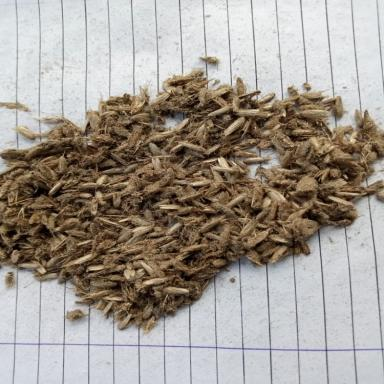pbw: (336, 186, 364, 200), (62, 253, 94, 265), (162, 164, 178, 188), (316, 118, 333, 140), (165, 270, 191, 284), (162, 296, 180, 316), (231, 136, 256, 150), (300, 108, 329, 120), (223, 117, 242, 135), (247, 230, 268, 246), (263, 114, 284, 130), (298, 216, 326, 228), (48, 219, 70, 234), (0, 167, 19, 184), (72, 149, 86, 172), (63, 208, 79, 228), (264, 188, 284, 204), (142, 312, 158, 332), (268, 246, 288, 262), (295, 159, 319, 172), (325, 194, 351, 206), (296, 96, 322, 108), (332, 206, 358, 218), (12, 125, 34, 139), (1, 102, 29, 113), (314, 198, 336, 212), (29, 256, 46, 274), (300, 173, 317, 191), (280, 148, 297, 166), (201, 216, 220, 232), (173, 125, 193, 140), (296, 234, 311, 254), (288, 172, 303, 192), (364, 179, 384, 194), (312, 142, 332, 157), (271, 164, 296, 176), (295, 139, 312, 156), (274, 132, 290, 150), (185, 262, 209, 274), (158, 238, 180, 251), (89, 131, 115, 142), (240, 154, 266, 165), (249, 188, 262, 210), (283, 190, 298, 209), (352, 108, 366, 128), (110, 125, 130, 139), (94, 238, 114, 252), (162, 286, 190, 296), (164, 154, 192, 164), (122, 233, 142, 247), (229, 149, 257, 159), (266, 174, 286, 188), (254, 136, 277, 148), (98, 216, 121, 228), (81, 226, 104, 238), (196, 270, 221, 281), (147, 129, 172, 140), (62, 123, 79, 139), (119, 310, 136, 326), (228, 191, 245, 207), (86, 147, 103, 163), (199, 232, 214, 250), (150, 110, 169, 124), (312, 166, 331, 180), (149, 93, 168, 107), (20, 226, 42, 238), (290, 117, 312, 129), (158, 200, 182, 211), (115, 185, 139, 196), (270, 120, 292, 132), (84, 288, 110, 298), (321, 176, 347, 186), (210, 94, 230, 107), (12, 235, 32, 248), (307, 211, 333, 221), (358, 142, 374, 158), (44, 253, 60, 269), (33, 114, 65, 122), (127, 124, 142, 141), (332, 163, 355, 174), (149, 237, 172, 248), (260, 220, 283, 231), (287, 128, 315, 137), (240, 89, 261, 101), (12, 169, 33, 181), (86, 110, 100, 128), (178, 140, 203, 150), (137, 284, 162, 294), (54, 140, 85, 148), (207, 106, 231, 116), (244, 252, 264, 264), (332, 152, 356, 162), (135, 84, 150, 100), (114, 171, 138, 181), (209, 84, 229, 96), (182, 68, 206, 78), (107, 96, 127, 108), (47, 124, 62, 140), (204, 189, 219, 205), (99, 255, 115, 270), (217, 232, 231, 249), (111, 307, 125, 324), (288, 240, 302, 257), (187, 78, 204, 92), (40, 161, 54, 178), (357, 158, 374, 172), (145, 195, 158, 213), (6, 185, 19, 203), (178, 252, 204, 261), (17, 184, 30, 202), (128, 97, 141, 115), (15, 214, 28, 232), (203, 142, 221, 155), (128, 225, 149, 236), (266, 202, 277, 223), (129, 215, 150, 226), (56, 189, 75, 201), (106, 142, 125, 154), (204, 250, 229, 259), (71, 274, 85, 290), (184, 216, 198, 232), (110, 150, 126, 164), (298, 198, 314, 212), (139, 260, 155, 274), (130, 196, 144, 212), (25, 145, 41, 159), (257, 92, 273, 106), (48, 237, 62, 253), (136, 163, 152, 177), (190, 281, 203, 298), (100, 119, 113, 136), (196, 89, 209, 106), (284, 208, 304, 219), (275, 106, 297, 116), (276, 95, 298, 105), (0, 148, 22, 158), (92, 159, 114, 169), (333, 96, 344, 116), (120, 246, 140, 257), (258, 169, 280, 179), (191, 204, 213, 214), (161, 140, 173, 158), (133, 306, 142, 330), (236, 109, 260, 118), (81, 217, 99, 229), (168, 75, 192, 84), (260, 244, 278, 256), (181, 190, 199, 202), (2, 271, 16, 286), (194, 123, 208, 138), (213, 204, 234, 214), (90, 250, 111, 260), (169, 256, 184, 270), (22, 208, 48, 216), (126, 286, 139, 302), (123, 264, 136, 280), (140, 277, 166, 285), (146, 252, 172, 260), (202, 118, 215, 134), (208, 164, 234, 172), (43, 146, 66, 155), (103, 246, 120, 258), (108, 268, 125, 280), (235, 74, 245, 94), (5, 159, 30, 167), (0, 183, 10, 203), (36, 142, 56, 152), (92, 278, 117, 286), (212, 182, 237, 190), (73, 237, 91, 248), (129, 153, 151, 162), (164, 222, 182, 233), (53, 202, 81, 209), (214, 154, 228, 168), (180, 164, 194, 178), (324, 218, 352, 225), (92, 298, 106, 312), (24, 202, 52, 209), (338, 137, 352, 151), (349, 170, 363, 184), (194, 164, 207, 179), (98, 303, 113, 316), (27, 209, 39, 225), (157, 260, 169, 276), (69, 290, 93, 298), (200, 54, 219, 64), (115, 302, 134, 312), (196, 154, 215, 164), (159, 191, 180, 200), (57, 153, 66, 174), (150, 180, 167, 191), (362, 107, 373, 124), (350, 128, 361, 145), (280, 219, 303, 227), (119, 258, 142, 266), (210, 171, 224, 184), (91, 190, 105, 203), (111, 179, 131, 188), (116, 230, 134, 240), (35, 175, 47, 190), (142, 302, 154, 317), (316, 186, 336, 195), (105, 226, 114, 246), (152, 219, 164, 234), (234, 238, 246, 253), (67, 148, 77, 166), (147, 141, 159, 156), (256, 206, 268, 221), (104, 292, 124, 301), (8, 248, 19, 264), (283, 228, 305, 236), (80, 262, 102, 270), (162, 81, 178, 92), (80, 180, 102, 188), (81, 200, 90, 219), (60, 235, 70, 252), (152, 291, 162, 308), (171, 140, 184, 153), (185, 231, 198, 244), (160, 102, 174, 114), (259, 108, 273, 120), (336, 124, 350, 136), (301, 90, 325, 97), (150, 156, 162, 170), (70, 230, 94, 237), (109, 194, 121, 208), (188, 178, 209, 186), (48, 182, 62, 194), (64, 116, 78, 128), (134, 178, 146, 192), (35, 191, 53, 200), (16, 260, 34, 269), (215, 117, 224, 135), (84, 271, 107, 278), (31, 159, 39, 179), (300, 192, 320, 200), (184, 243, 204, 251), (235, 159, 251, 169), (24, 180, 34, 196), (286, 83, 298, 96), (23, 248, 36, 260), (175, 118, 188, 130), (0, 233, 13, 245), (297, 225, 319, 232), (166, 93, 188, 100), (309, 136, 320, 150), (159, 212, 181, 219), (64, 177, 78, 188), (103, 208, 120, 217), (181, 289, 190, 306), (0, 202, 17, 211), (230, 93, 239, 110), (269, 234, 288, 242), (52, 210, 71, 218), (88, 165, 98, 180), (250, 119, 260, 134), (169, 127, 190, 134), (122, 111, 134, 123), (231, 208, 249, 216), (44, 236, 56, 248), (121, 278, 130, 294), (186, 113, 197, 126), (222, 140, 232, 154), (132, 112, 152, 119), (182, 203, 192, 217), (195, 109, 205, 123), (213, 258, 227, 268), (95, 110, 118, 116), (240, 119, 248, 136), (0, 214, 19, 221), (0, 222, 12, 233), (142, 120, 164, 126), (125, 148, 147, 154), (172, 99, 184, 110), (184, 96, 195, 108), (36, 273, 58, 279), (122, 164, 138, 172), (122, 196, 130, 212), (58, 266, 66, 282), (209, 134, 225, 142), (74, 192, 90, 200), (114, 110, 122, 126), (37, 248, 55, 255), (80, 120, 87, 138), (90, 204, 100, 216), (63, 170, 83, 176), (219, 225, 229, 237), (219, 190, 229, 202), (225, 250, 235, 262), (69, 266, 86, 273), (236, 177, 255, 183), (0, 211, 19, 217), (34, 240, 45, 250), (80, 169, 90, 180), (48, 214, 54, 232), (100, 168, 118, 174), (223, 173, 235, 182), (180, 91, 198, 97), (96, 174, 106, 184), (69, 237, 75, 253), (73, 298, 91, 303), (123, 142, 144, 146), (108, 287, 124, 292)
